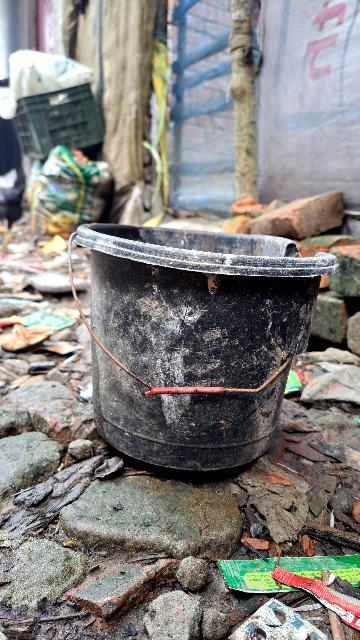hardplastic: (86, 219, 307, 482)
